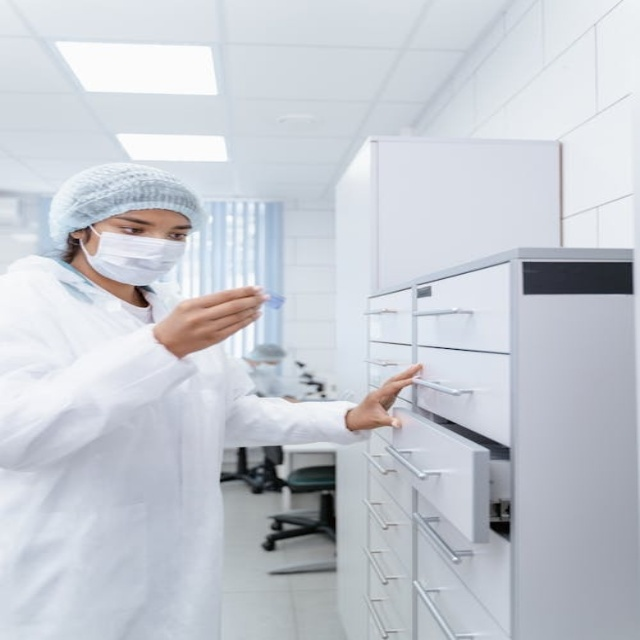Mascara: (78, 225, 186, 290)
Sin_gafas: (113, 213, 188, 241)
Sin_guantes: (164, 282, 270, 350), (348, 363, 425, 433)
